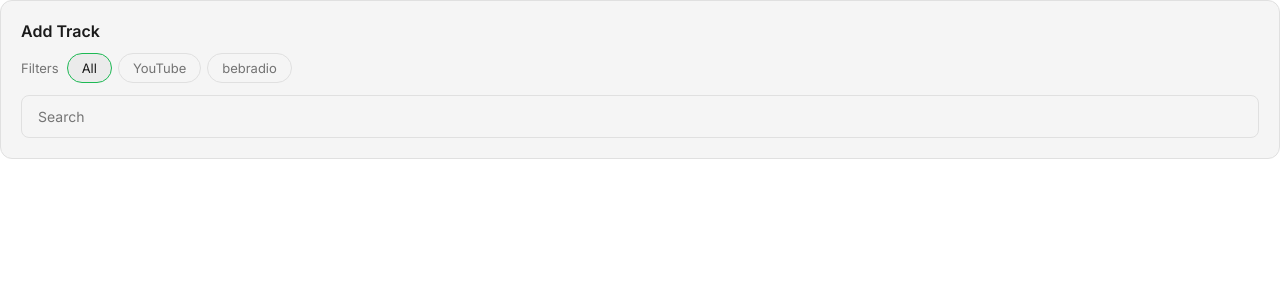
Test: AddTrack › source filters narrow the unified list
Type "boot" into the field with placeholder "Search" at (640, 116), box [21, 95, 1259, 138]
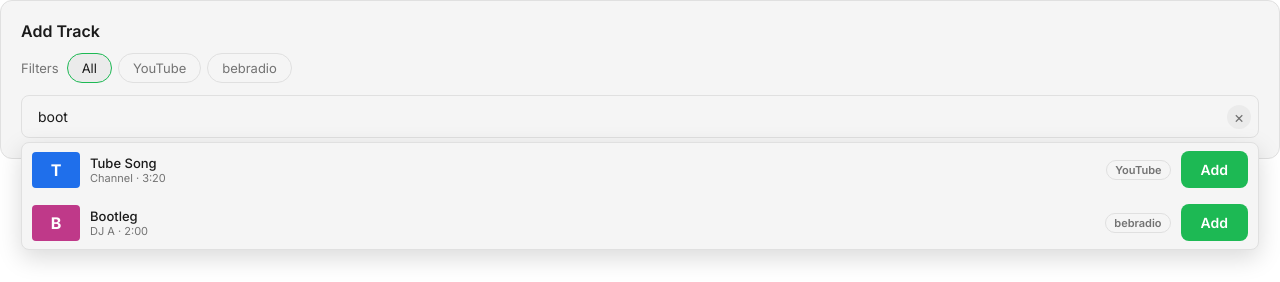
Check: the text "Bootleg" is shown, box [90, 208, 138, 224]
Click the button "YouTube" at (160, 68), box [118, 53, 201, 83]
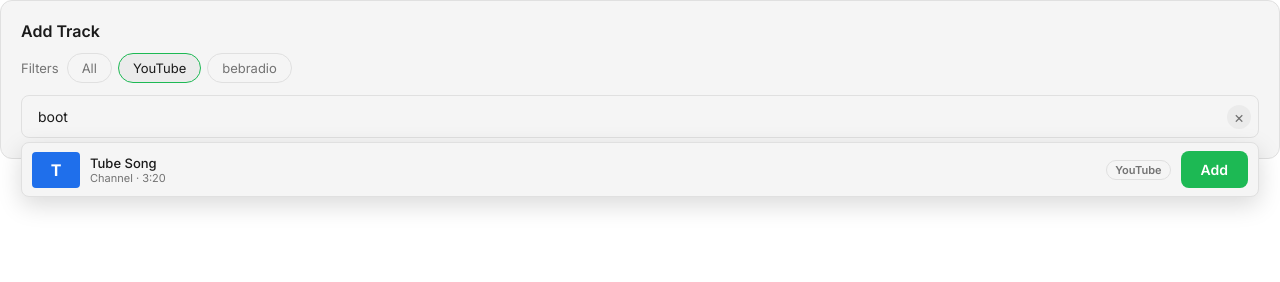
Check: the text "Tube Song" is shown, box [90, 154, 157, 170]
Check: the text "Bootleg" is gone
Click the button "bebradio" at (250, 68), box [207, 53, 292, 83]
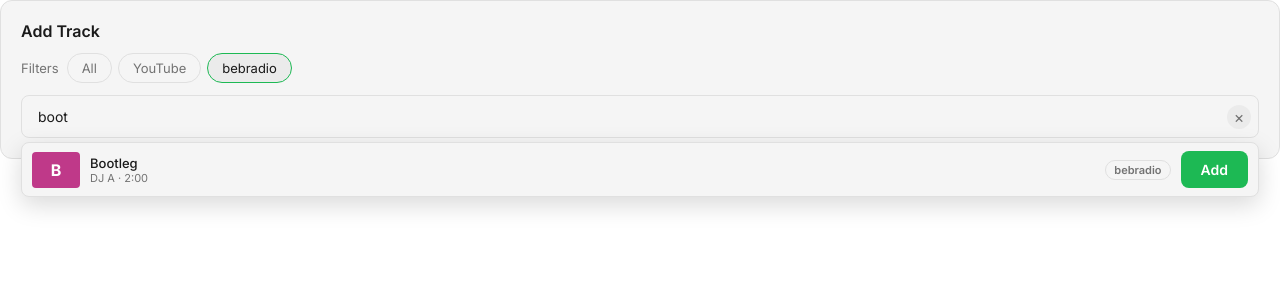
Check: the text "Tube Song" is gone
Check: the text "Bootleg" is shown, box [90, 154, 138, 170]
Click the button "All" at (89, 68), box [67, 53, 112, 83]
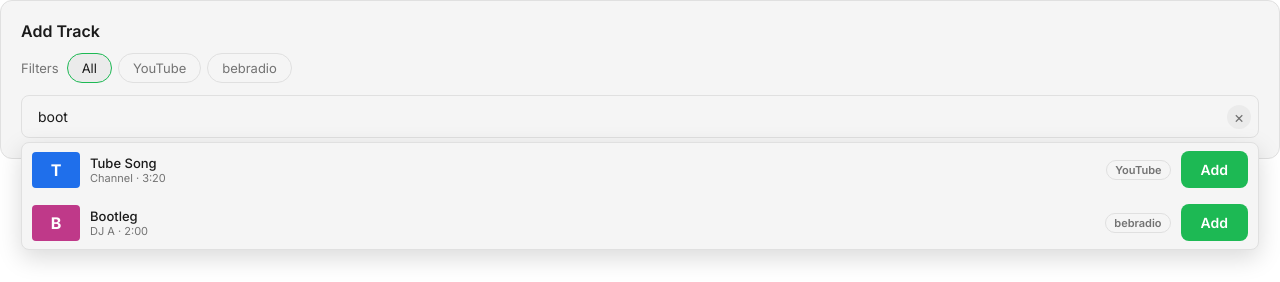
Check: the text "Bootleg" is shown, box [90, 208, 138, 224]
Check: the text "Tube Song" is shown, box [90, 154, 157, 170]
